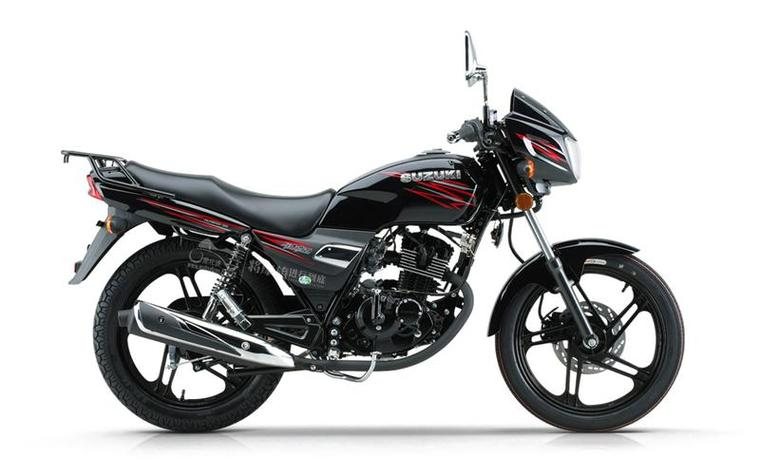摩托车: (26, 15, 710, 448)
